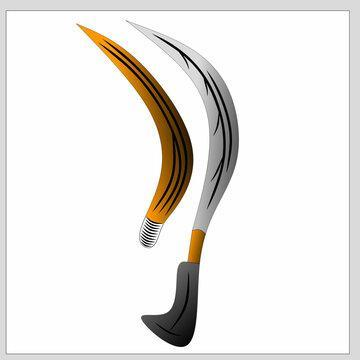foice: (128, 21, 237, 343), (80, 26, 192, 246)
